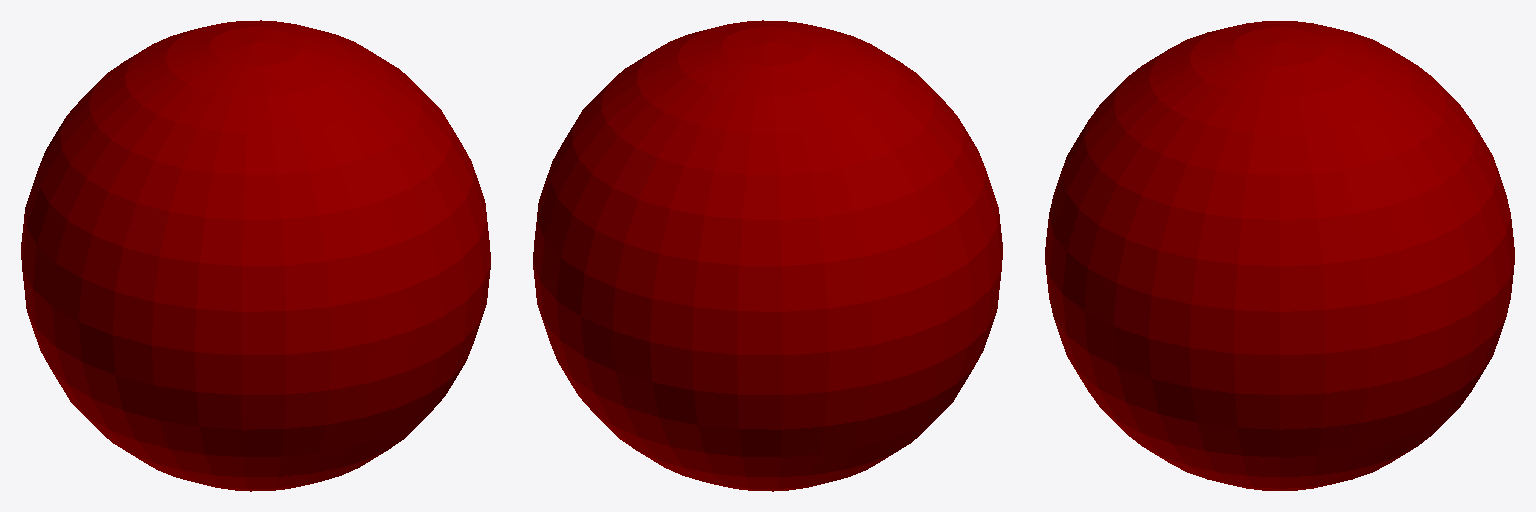
The robot description file, URDF, robot "spherebot":
<?xml version="1.0" ?>

<robot name="spherebot" xmlns:drake="https://drake.mit.edu/">
  <!--
    Frames are defined such that they all align with the base frame when all
    joints are at position zero.

    In zero-configuration the origins of all joints are in one line.

    In zero-configuration the origin of the base link is exactly above the
    finger tip which should make it easy to place the finger in the world.
    -->
  <!-- Define the global worldfixed and place all other objects relative to it. -->
  
  <material name="finger_0_material">
    <color rgba="0.6 0.0 0.0 1.0"/>
  </material>
  <material name="finger_1_material">
    <color rgba="0.6 0.0 0.0 1.0"/>
  </material>

  <link name="worldfixed" />

  <link name="finger_0">
   <visual>
      <origin rpy="0 0 0" xyz="0 0 0"/>
      <geometry>
        <sphere radius="0.0195"/>
      </geometry>
      <material name="finger_0_material"/>
    </visual>
    <inertial>
      <origin rpy="0 0 0" xyz="0 0 0"/>
      <mass value="0.057"/>
      <inertia
                ixx="0.0000086697"
                ixy="0"
                ixz="0"
                iyy="0.0000086697"
                iyz="0"
                izz="0.0000086697"/>
    </inertial>
    <collision>
      <origin rpy="0 0 0" xyz="0 0 0"/>
      <geometry>
        <sphere radius="0.0195"/>
      </geometry>
        <drake:proximity_properties>
          <drake:mu_static value="1"/>
          <drake:mu_dynamic value="1"/>
          <drake:rigid_hydroelastic />
          <drake:mesh_resolution_hint value="0.001" />
          <drake:point_contact_stiffness value="10800.0" />
          <drake:hunt_crossley_dissipation value="0.4" />
        </drake:proximity_properties>

    </collision>
  </link>
  
  <link name="finger_0_fake_x" />
  
  <link name="finger_0_fake_y" />
  
  <joint name="finger_0_to_base_x" type="prismatic">
    <origin xyz="0 0 0" />
    <parent link="worldfixed"/>
    <child link="finger_0_fake_x"/>
    <axis xyz="1 0 0"/>
  </joint>
  <joint name="finger_0_to_base_y" type="fixed">
    <origin xyz="0 0 0" />
    <parent link="finger_0_fake_x"/>
    <child link="finger_0_fake_y"/>
    <axis xyz="0 1 0"/>
  </joint>
  <joint name="finger_0_to_base_z" type="fixed">
    <origin xyz="0 0 0.0524" />
    <parent link="finger_0_fake_y"/>
    <child link="finger_0"/>
    <axis xyz="0 0 1"/>
  </joint>
  
   <transmission name="finger_0_to_base_trans_x" type="SimpleTransmission">
    <actuator name="finger_0_to_base_act_x"/>
    <joint name="finger_0_to_base_x"/>
    <mechanicalReduction>1</mechanicalReduction>
  </transmission>
  <!--
     <transmission name="finger_0_to_base_trans_y" type="SimpleTransmission">
    <actuator name="finger_0_to_base_act_y"/>
    <joint name="finger_0_to_base_y"/>
    <mechanicalReduction>1</mechanicalReduction>
  </transmission>
  
     <transmission name="finger_0_to_base_trans_z" type="SimpleTransmission">
    <actuator name="finger_0_to_base_act_z"/>
    <joint name="finger_0_to_base_z"/>
    <mechanicalReduction>1</mechanicalReduction>
  </transmission>
-->
  
  <drake:collision_filter_group name="finger_0_group">
  <drake:member link="finger_0"/>
  <drake:ignored_collision_filter_group name="finger_0_group"/>
  </drake:collision_filter_group>

  <link name="finger_1">
   <visual>
      <origin rpy="0 0 0" xyz="0 0 0"/>
      <geometry>
        <sphere radius="0.0195"/>
      </geometry>
      <material name="finger_1_material"/>
    </visual>
    <inertial>
      <origin rpy="0 0 0" xyz="0 0 0"/>
      <mass value="0.057"/>
      <inertia
                ixx="0.0000086697"
                ixy="0"
                ixz="0"
                iyy="0.0000086697"
                iyz="0"
                izz="0.0000086697"/>
    </inertial>
    <collision>
      <origin rpy="0 0 0" xyz="0 0 0"/>
      <geometry>
        <sphere radius="0.0195"/>
      </geometry>
        <drake:proximity_properties>
          <drake:mu_static value="1"/>
          <drake:mu_dynamic value="1"/>
          <drake:rigid_hydroelastic />
          <drake:mesh_resolution_hint value="0.001" />
          <drake:point_contact_stiffness value="10800.0" />
          <drake:hunt_crossley_dissipation value="0.4" />
        </drake:proximity_properties>

    </collision>
  </link>
  
  <link name="finger_1_fake_x" />
  
  <link name="finger_1_fake_y" />
  
  <joint name="finger_1_to_base_x" type="prismatic">
    <origin xyz="0 0 0" />
    <parent link="worldfixed"/>
    <child link="finger_1_fake_x"/>
    <axis xyz="1 0 0"/>
  </joint>
  <joint name="finger_1_to_base_y" type="fixed">
    <origin xyz="0 0 0" />
    <parent link="finger_1_fake_x"/>
    <child link="finger_1_fake_y"/>
    <axis xyz="0 1 0"/>
  </joint>
  <joint name="finger_1_to_base_z" type="fixed">
    <origin xyz="0 0 0.0524" />
    <parent link="finger_1_fake_y"/>
    <child link="finger_1"/>
    <axis xyz="0 0 1"/>
  </joint>
  
   <transmission name="finger_1_to_base_trans_x" type="SimpleTransmission">
    <actuator name="finger_1_to_base_act_x"/>
    <joint name="finger_1_to_base_x"/>
    <mechanicalReduction>1</mechanicalReduction>
  </transmission>
  
  <!--
     <transmission name="finger_1_to_base_trans_y" type="SimpleTransmission">
    <actuator name="finger_1_to_base_act_y"/>
    <joint name="finger_1_to_base_y"/>
    <mechanicalReduction>1</mechanicalReduction>
  </transmission>
  
     <transmission name="finger_1_to_base_trans_z" type="SimpleTransmission">
    <actuator name="finger_1_to_base_act_z"/>
    <joint name="finger_1_to_base_z"/>
    <mechanicalReduction>1</mechanicalReduction>
  </transmission>
-->
  
  <drake:collision_filter_group name="finger_1_group">
  <drake:member link="finger_1"/>
  <drake:ignored_collision_filter_group name="finger_1_group"/>
  </drake:collision_filter_group>
</robot>

--- Render facts (derived) ---
Views: 3 orthographic renders of the robot side by side, from view 1: azimuth 30°, elevation 25°; view 2: azimuth 150°, elevation 25°; view 3: azimuth 270°, elevation 25°.
Model spherebot with 7 links and 6 joints (2 prismatic, 4 fixed), rooted at worldfixed, posed all joints at 0.
Links seen in each view (by area): view 1: finger_0; view 2: finger_0; view 3: finger_0.
Boxes of the visible links, x1,y1,x2,y2 form: finger_0: (21, 20, 490, 491); finger_0: (533, 20, 1002, 491); finger_0: (1045, 21, 1514, 490).
Size in the robot's own frame: 0.039 by 0.039 by 0.039 metres.
Geometry: primitives only (box / cylinder / sphere), no mesh files.